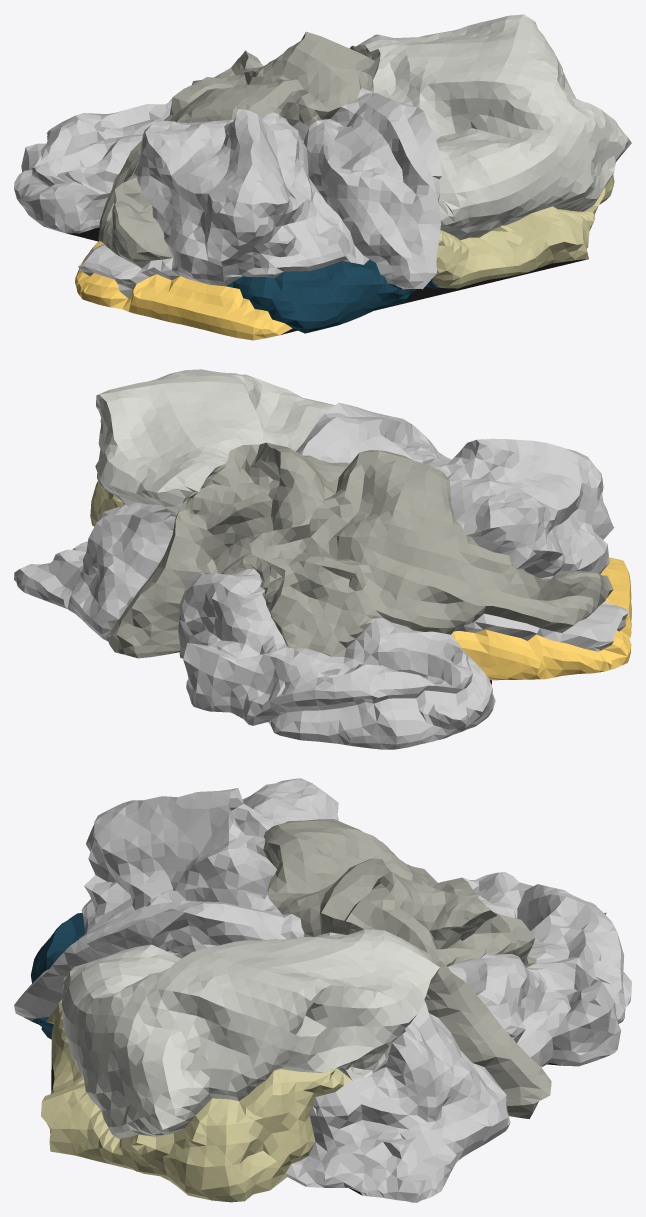
The model's file is tasDeVetements.obj.
3 views of the same model, one above another, from view 1: azimuth 30°, elevation 25°; view 2: azimuth 150°, elevation 25°; view 3: azimuth 270°, elevation 25° (orthographic). The views are drawn at different scales.
Visible parts, largest first — view 1: vetements_Exported-from-instant-Meshes, base_Exported-from-instant-Meshes.002; view 2: vetements_Exported-from-instant-Meshes; view 3: vetements_Exported-from-instant-Meshes.
Part boxes in pixels (left/top/right/bottom): vetements_Exported-from-instant-Meshes: left=14, top=14, right=631, bottom=340; base_Exported-from-instant-Meshes.002: left=66, top=228, right=588, bottom=334; vetements_Exported-from-instant-Meshes: left=14, top=369, right=631, bottom=749; vetements_Exported-from-instant-Meshes: left=14, top=778, right=631, bottom=1202.
Size of the model in its own units: 122 by 37.67 by 104.
